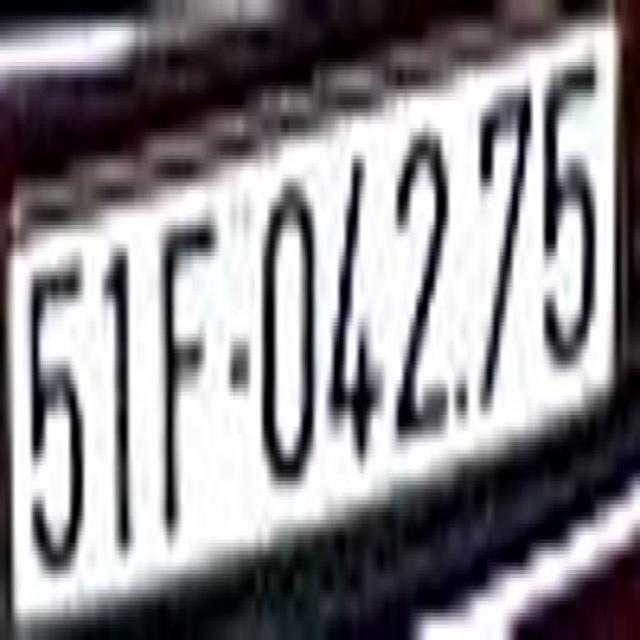0: (256, 182, 316, 493)
1: (102, 202, 134, 562)
2: (387, 128, 448, 434)
4: (327, 148, 380, 462)
5: (541, 59, 600, 372), (28, 244, 84, 570)
7: (476, 89, 534, 419)
F: (160, 202, 217, 524)
